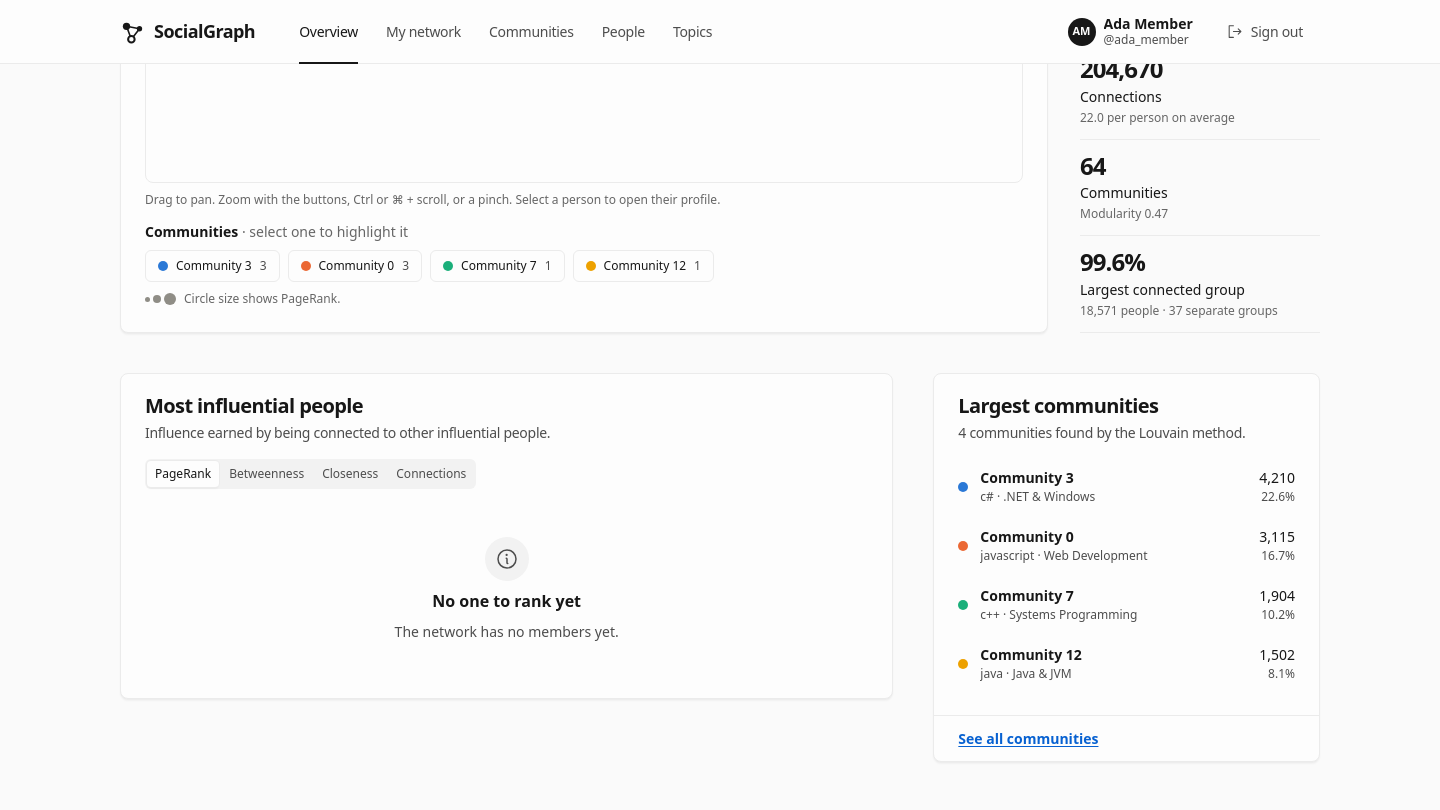
Overview › explains an empty ranking and a failed one
The width and height of the screenshot is (1440, 810).
(page scrolled)
expect the text "No one to rank yet" is shown: met, box x1=432 y1=589 x2=581 y2=613
Click the radio button labelled "Closeness": (350, 474) x1=322 y1=465 x2=378 y2=482
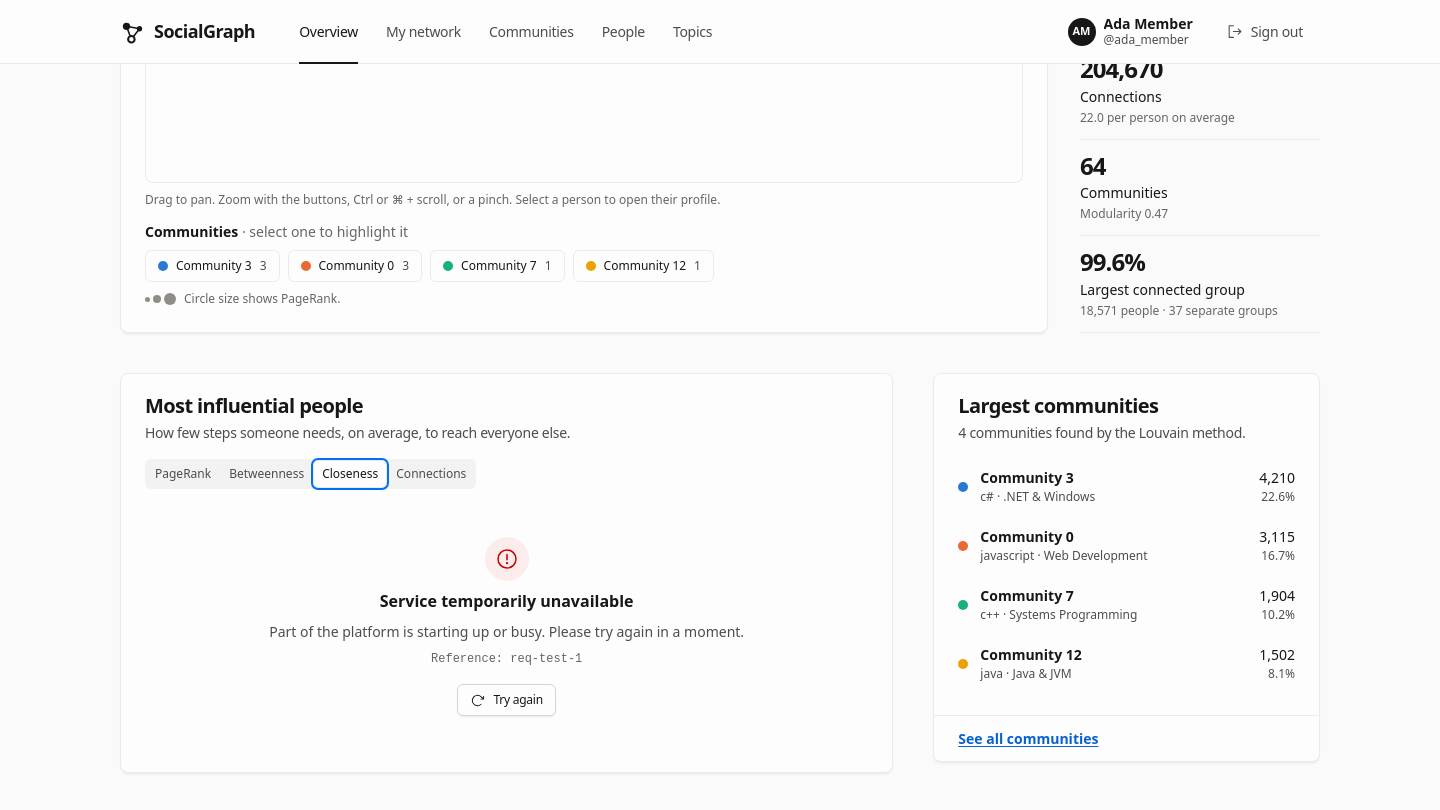
expect the text "Service temporarily unavailable" is shown: met, box x1=380 y1=589 x2=634 y2=613
